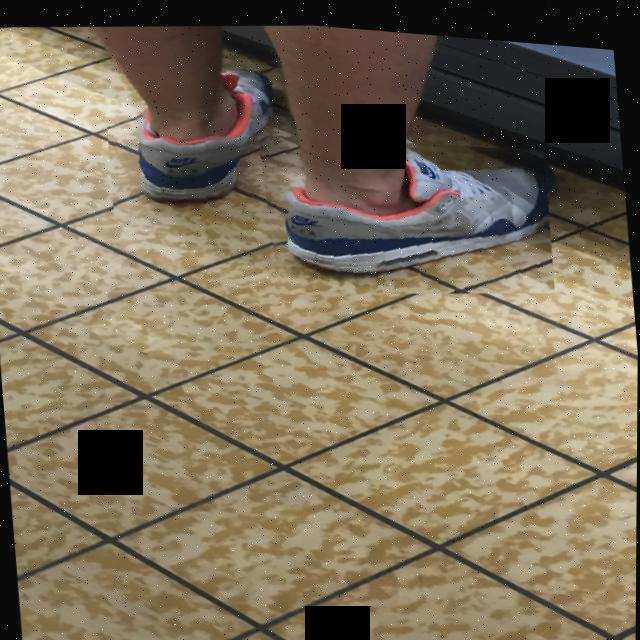shoe: (256, 106, 556, 308), (101, 49, 304, 230)
